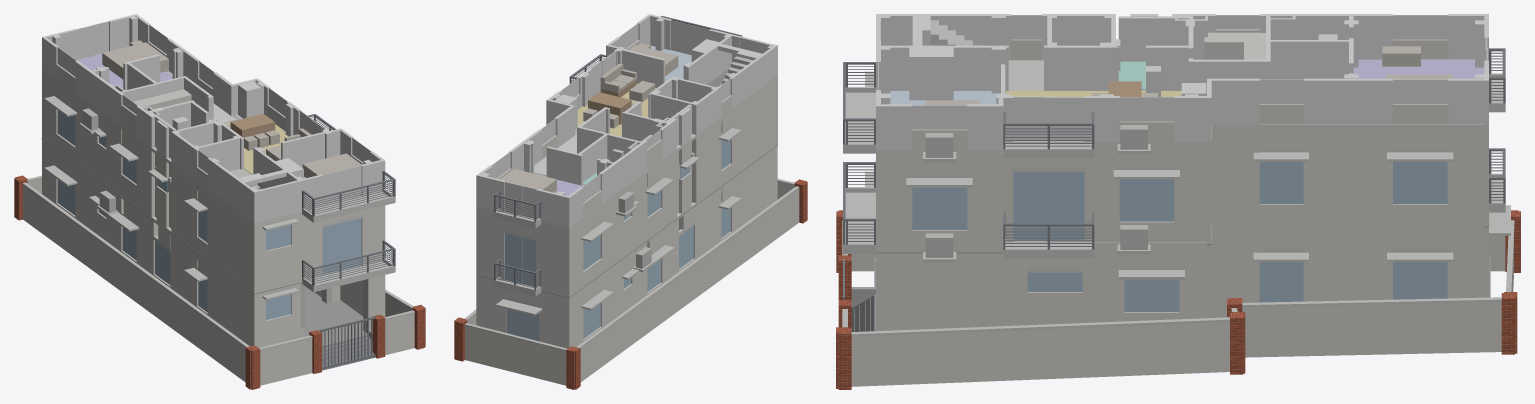
The picture shows the model from 3 angles, left to right: view 1: azimuth 30°, elevation 25°; view 2: azimuth 150°, elevation 25°; view 3: azimuth 270°, elevation 25°; orthographic projection. The views are drawn at different scales.
Visible parts, largest first — view 1: BOUNDARY#226, 1ST_FLOOR/wall#310, GROUND_FLOOR/core_wall#122, PLINTH#0, BOUNDARY#184, 1ST_FLOOR/wall/glass#307, 1ST_FLOOR/wall#302, 1ST_FLOOR/wall#1694, 2ND_FLOOR/wall#618, 1ST_FLOOR/wall#308, BOUNDARY/coping#227, GROUND_FLOOR/flat_wall#68 (+72 smaller); view 2: BOUNDARY#226, BOUNDARY#222, 1ST_FLOOR/wall#310, 1ST_FLOOR/wall#391, GROUND_FLOOR/core_wall#122, 1ST_FLOOR/wall#1694, 1ST_FLOOR/wall#397, GROUND_FLOOR/flat_wall#104, 2ND_FLOOR/wall#618, GROUND_FLOOR/flat_wall#112, 1ST_FLOOR/wall#340, BOUNDARY/coping#227 (+65 smaller); view 3: BOUNDARY#210, BOUNDARY#218, GROUND_FLOOR/full_wall#165, 1ST_FLOOR/wall#382, GROUND_FLOOR/flat_wall#95, 1ST_FLOOR/wall#374, 2ND_FLOOR/wall#690, GROUND_FLOOR/flat_wall#87, 1ST_FLOOR/wall#390, 1ST_FLOOR/wall#364, 1ST_FLOOR/wall#372, 1ST_FLOOR/wall#349 (+96 smaller).
Part boxes in pixels (bbox=[...]): BOUNDARY#226: bbox=[23, 185, 245, 382]; 1ST_FLOOR/wall#310: bbox=[207, 193, 252, 290]; GROUND_FLOOR/core_wall#122: bbox=[212, 265, 254, 346]; PLINTH#0: bbox=[305, 300, 367, 346]; BOUNDARY#184: bbox=[260, 338, 312, 385]; 1ST_FLOOR/wall/glass#307: bbox=[322, 218, 361, 274]; 1ST_FLOOR/wall#302: bbox=[291, 214, 322, 283]; 1ST_FLOOR/wall#1694: bbox=[171, 165, 198, 250]; 2ND_FLOOR/wall#618: bbox=[207, 157, 254, 221]; 1ST_FLOOR/wall#308: bbox=[361, 205, 385, 265]; BOUNDARY/coping#227: bbox=[22, 182, 249, 347]; GROUND_FLOOR/flat_wall#68: bbox=[75, 165, 98, 233]; BOUNDARY#226: bbox=[580, 189, 799, 382]; BOUNDARY#222: bbox=[465, 326, 566, 385]; 1ST_FLOOR/wall#310: bbox=[730, 79, 776, 176]; 1ST_FLOOR/wall#391: bbox=[536, 224, 570, 296]; GROUND_FLOOR/core_wall#122: bbox=[736, 147, 777, 229]; 1ST_FLOOR/wall#1694: bbox=[693, 120, 721, 203]; 1ST_FLOOR/wall#397: bbox=[476, 208, 504, 279]; GROUND_FLOOR/flat_wall#104: bbox=[539, 292, 570, 348]; 2ND_FLOOR/wall#618: bbox=[729, 46, 776, 108]; GROUND_FLOOR/flat_wall#112: bbox=[476, 276, 506, 332]; 1ST_FLOOR/wall#340: bbox=[600, 191, 623, 271]; BOUNDARY/coping#227: bbox=[576, 186, 799, 348]; BOUNDARY#210: bbox=[851, 322, 1229, 386]; BOUNDARY#218: bbox=[1242, 302, 1501, 357]; GROUND_FLOOR/full_wall#165: bbox=[876, 254, 1002, 330]; 1ST_FLOOR/wall#382: bbox=[1303, 129, 1392, 224]; GROUND_FLOOR/flat_wall#95: bbox=[1303, 229, 1392, 301]; 1ST_FLOOR/wall#374: bbox=[1211, 128, 1259, 225]; 2ND_FLOOR/wall#690: bbox=[1303, 78, 1392, 124]; GROUND_FLOOR/flat_wall#87: bbox=[1211, 229, 1259, 317]; 1ST_FLOOR/wall#390: bbox=[1447, 129, 1484, 224]; 1ST_FLOOR/wall#364: bbox=[1084, 146, 1119, 241]; 1ST_FLOOR/wall#372: bbox=[1174, 146, 1207, 241]; 1ST_FLOOR/wall#349: bbox=[880, 154, 912, 250].
Size of the model in its own units: 8.06 by 8.05 by 18.89.
Materials: 1 (1 with a texture image).
